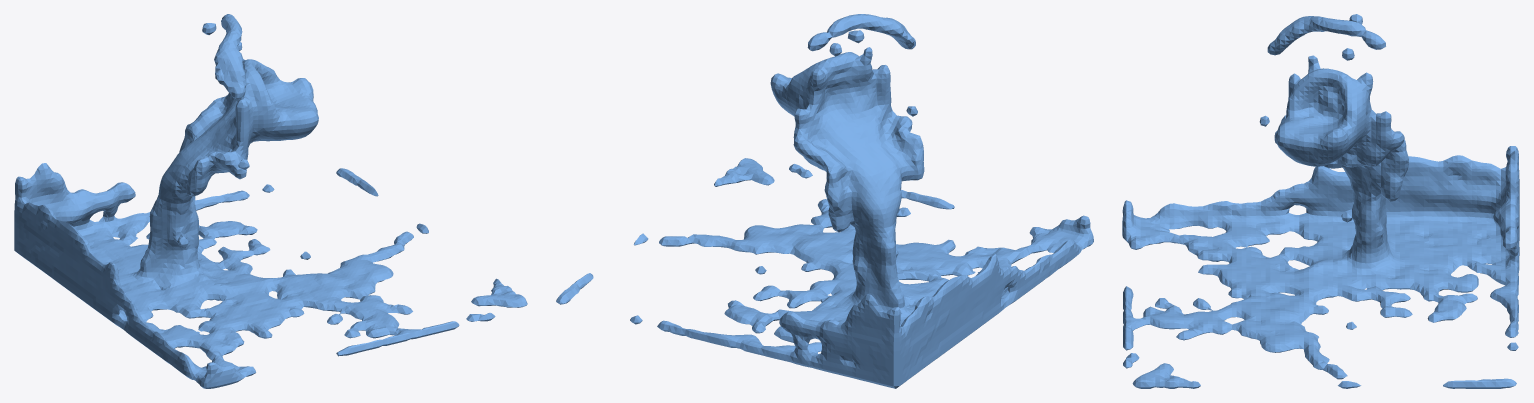
The model's file is water_0050.glb.
The picture shows the model from 3 angles, left to right: view 1: azimuth 30°, elevation 25°; view 2: azimuth 150°, elevation 25°; view 3: azimuth 270°, elevation 25°; orthographic projection. The views are drawn at different scales.
Parts seen in each view (by area): view 1: Water_0050; view 2: Water_0050; view 3: Water_0050.
Part boxes in pixels (x1,y1,x2,y2): Water_0050: (14,14,527,388); Water_0050: (556,14,1093,388); Water_0050: (1122,14,1519,388).
Bounding box in the file's own units: 4.82 × 3.64 × 4.83.
